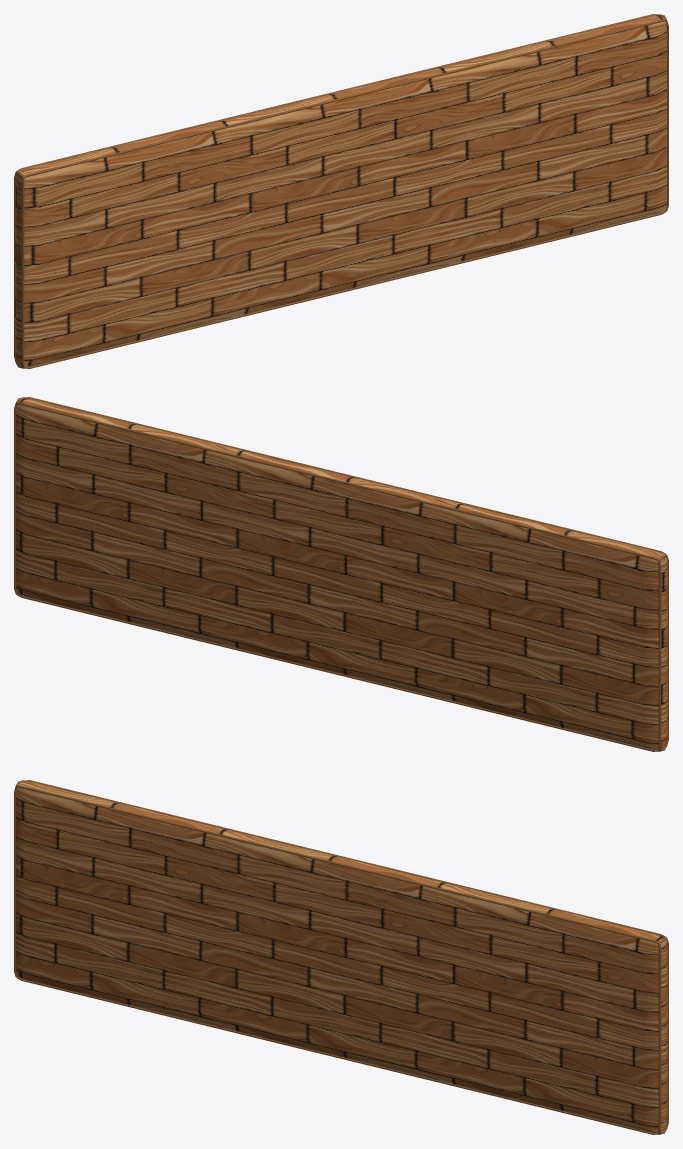
File: SM_FoamWall_1x3.fbx
The picture shows the model from 3 angles, top to bottom: view 1: azimuth 30°, elevation 25°; view 2: azimuth 150°, elevation 25°; view 3: azimuth 330°, elevation 25°; orthographic projection.
Parts seen in each view (by area): view 1: SM_SoftFoam_Wall_10_1x3; view 2: SM_SoftFoam_Wall_10_1x3; view 3: SM_SoftFoam_Wall_10_1x3.
Part boxes in pixels (<box>): SM_SoftFoam_Wall_10_1x3: <box>14,14,668,368</box>; SM_SoftFoam_Wall_10_1x3: <box>14,397,668,751</box>; SM_SoftFoam_Wall_10_1x3: <box>14,780,668,1134</box>.
Bounding box in the file's own units: 288 × 83.6 × 10.
